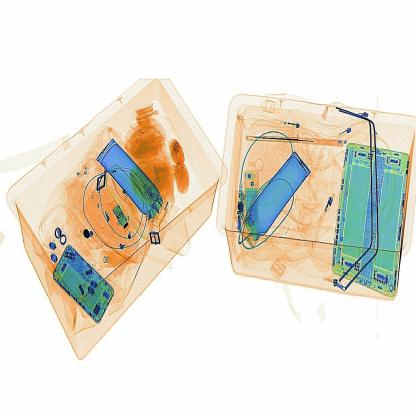wrench: (241, 132, 349, 154)
